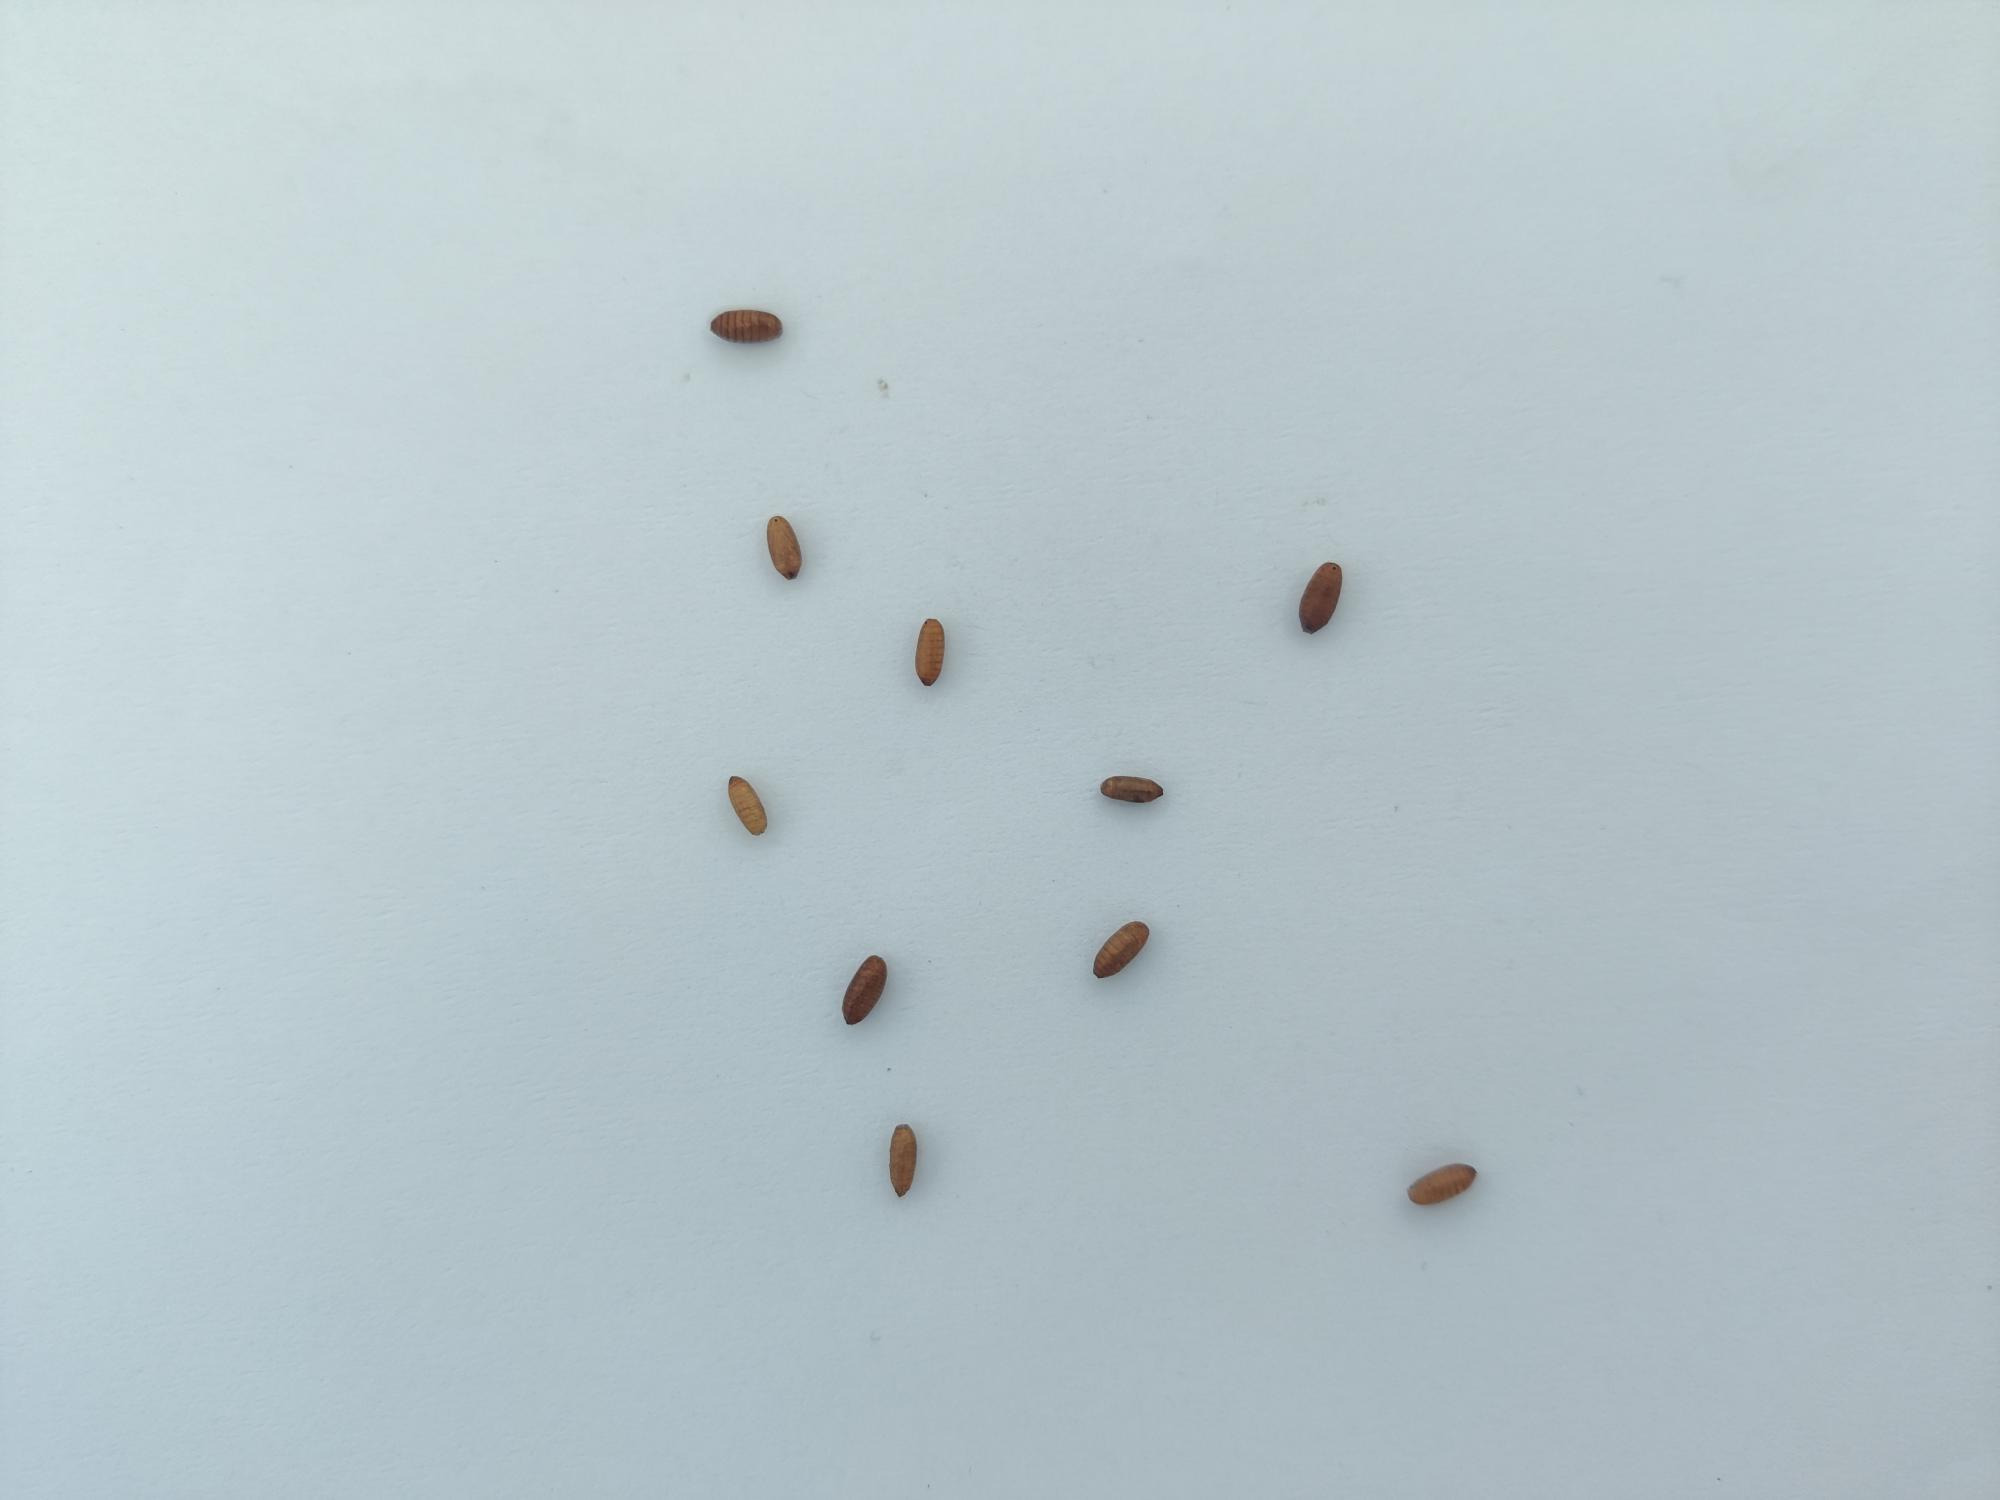pupae: (694, 298, 798, 364), (1079, 915, 1157, 993), (1290, 551, 1353, 644), (1395, 1155, 1483, 1218), (836, 950, 898, 1034), (759, 511, 816, 596), (717, 770, 776, 841), (882, 1114, 926, 1207), (1096, 758, 1167, 815), (906, 613, 953, 698)
